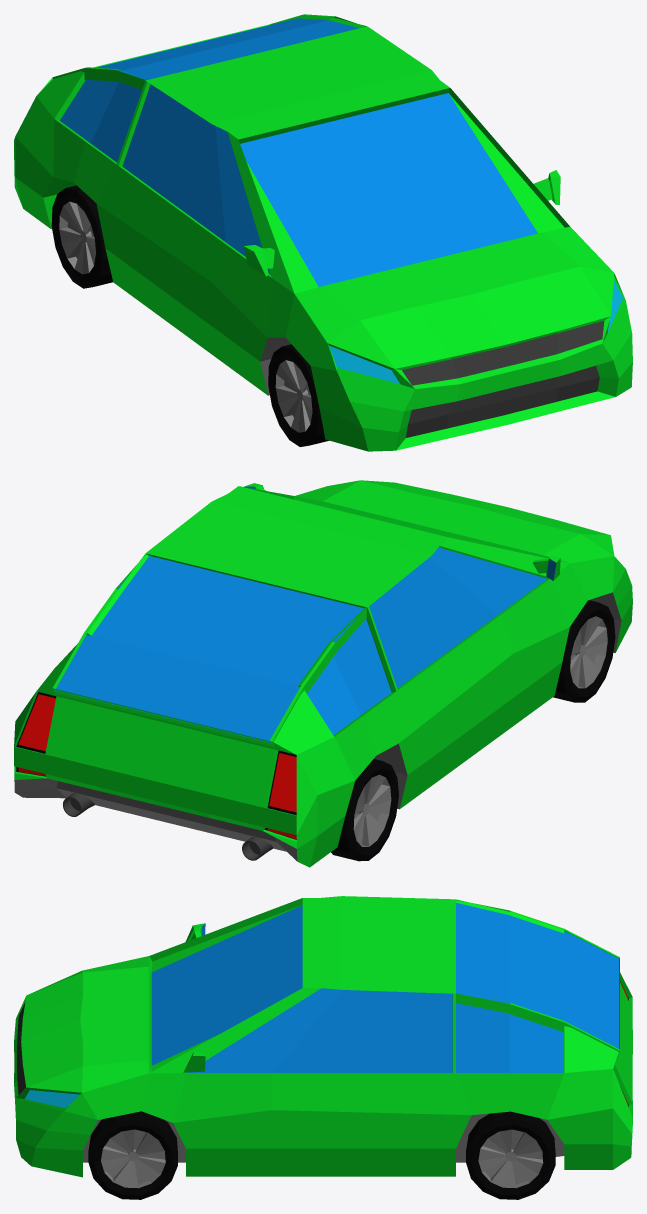
The model's file is low_ploy_city_car.glb.
3 renders of one model, top to bottom at view 1: azimuth 30°, elevation 25°; view 2: azimuth 150°, elevation 25°; view 3: azimuth 270°, elevation 25°, orthographic. The views are drawn at different scales.
Visible parts, largest first — view 1: Low Ploy Car; view 2: Low Ploy Car; view 3: Low Ploy Car.
Part boxes in pixels (x1,y1,x2,y2): Low Ploy Car: (14, 14, 632, 451); Low Ploy Car: (14, 480, 632, 867); Low Ploy Car: (14, 896, 632, 1199).
Bounding box in the file's own units: 558 × 380 × 1098.
